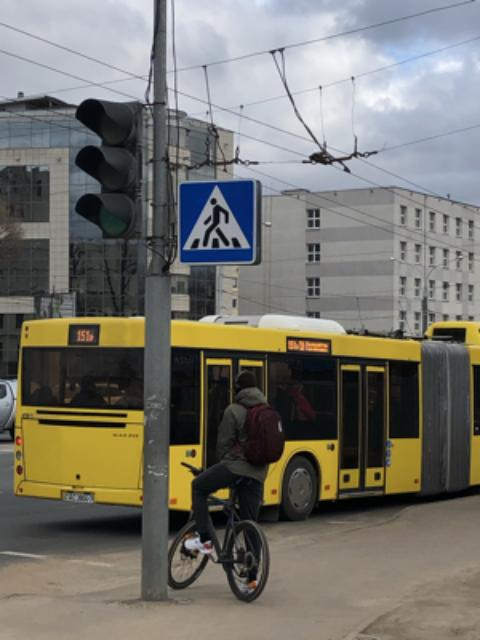crosswalk-sign: (176, 178, 262, 267)
